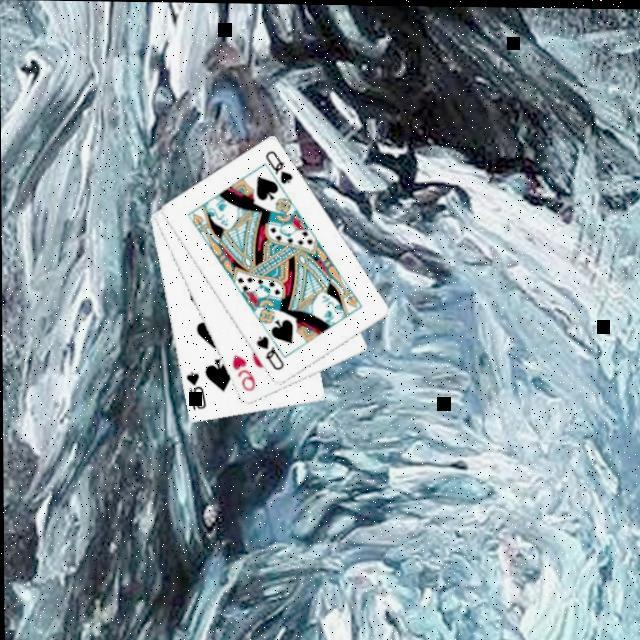10S: (181, 370, 207, 415)
9H: (228, 353, 256, 396)
QS: (251, 333, 285, 375), (261, 148, 295, 188)
